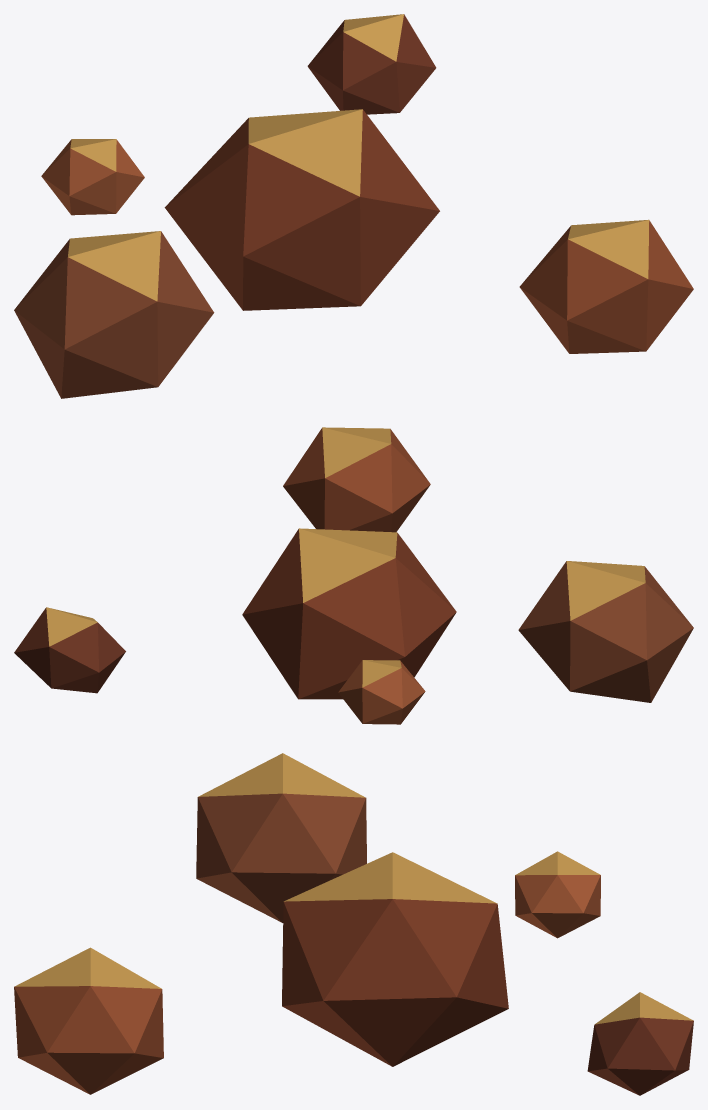
File: debris.gltf
The picture shows the model from 3 angles, top to bottom: view 1: azimuth 30°, elevation 25°; view 2: azimuth 150°, elevation 25°; view 3: azimuth 270°, elevation 25°; orthographic projection. The views are drawn at different scales.
Visible parts, largest first — view 1: rock, rock.4, rock.2, rock.3, rock.5; view 2: rock, rock.4, rock.2, rock.3, rock.5; view 3: rock, rock.4, rock.2, rock.3, rock.5.
Part boxes in pixels (x1,y1,x2,y2): rock: [164, 109, 439, 310]; rock.4: [14, 231, 214, 398]; rock.2: [519, 219, 693, 353]; rock.3: [307, 14, 436, 114]; rock.5: [41, 139, 144, 215]; rock: [242, 528, 456, 699]; rock.4: [518, 561, 693, 702]; rock.2: [283, 427, 430, 532]; rock.3: [14, 607, 125, 693]; rock.5: [338, 660, 425, 724]; rock: [282, 852, 508, 1066]; rock.4: [196, 753, 366, 922]; rock.2: [14, 947, 163, 1094]; rock.3: [587, 992, 693, 1095]; rock.5: [515, 851, 600, 938].
Size of the model in its own units: 2.31 by 0.6716 by 2.47.
